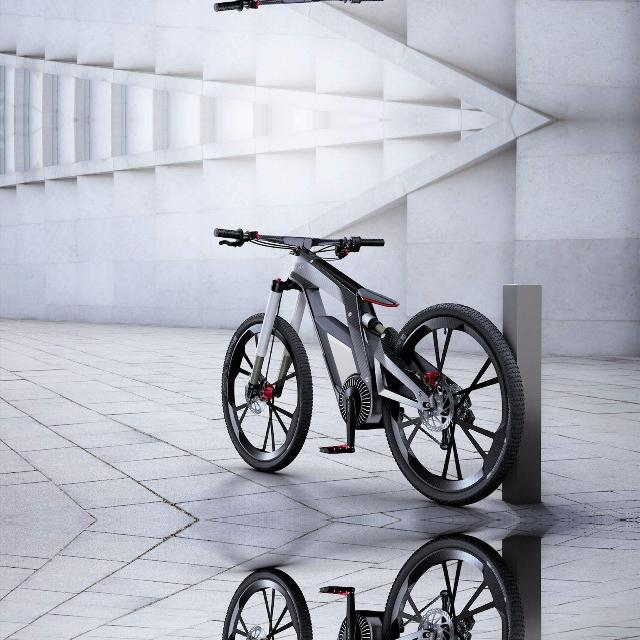obstacle: (193, 200, 569, 520), (193, 520, 569, 640), (193, 0, 569, 39)
